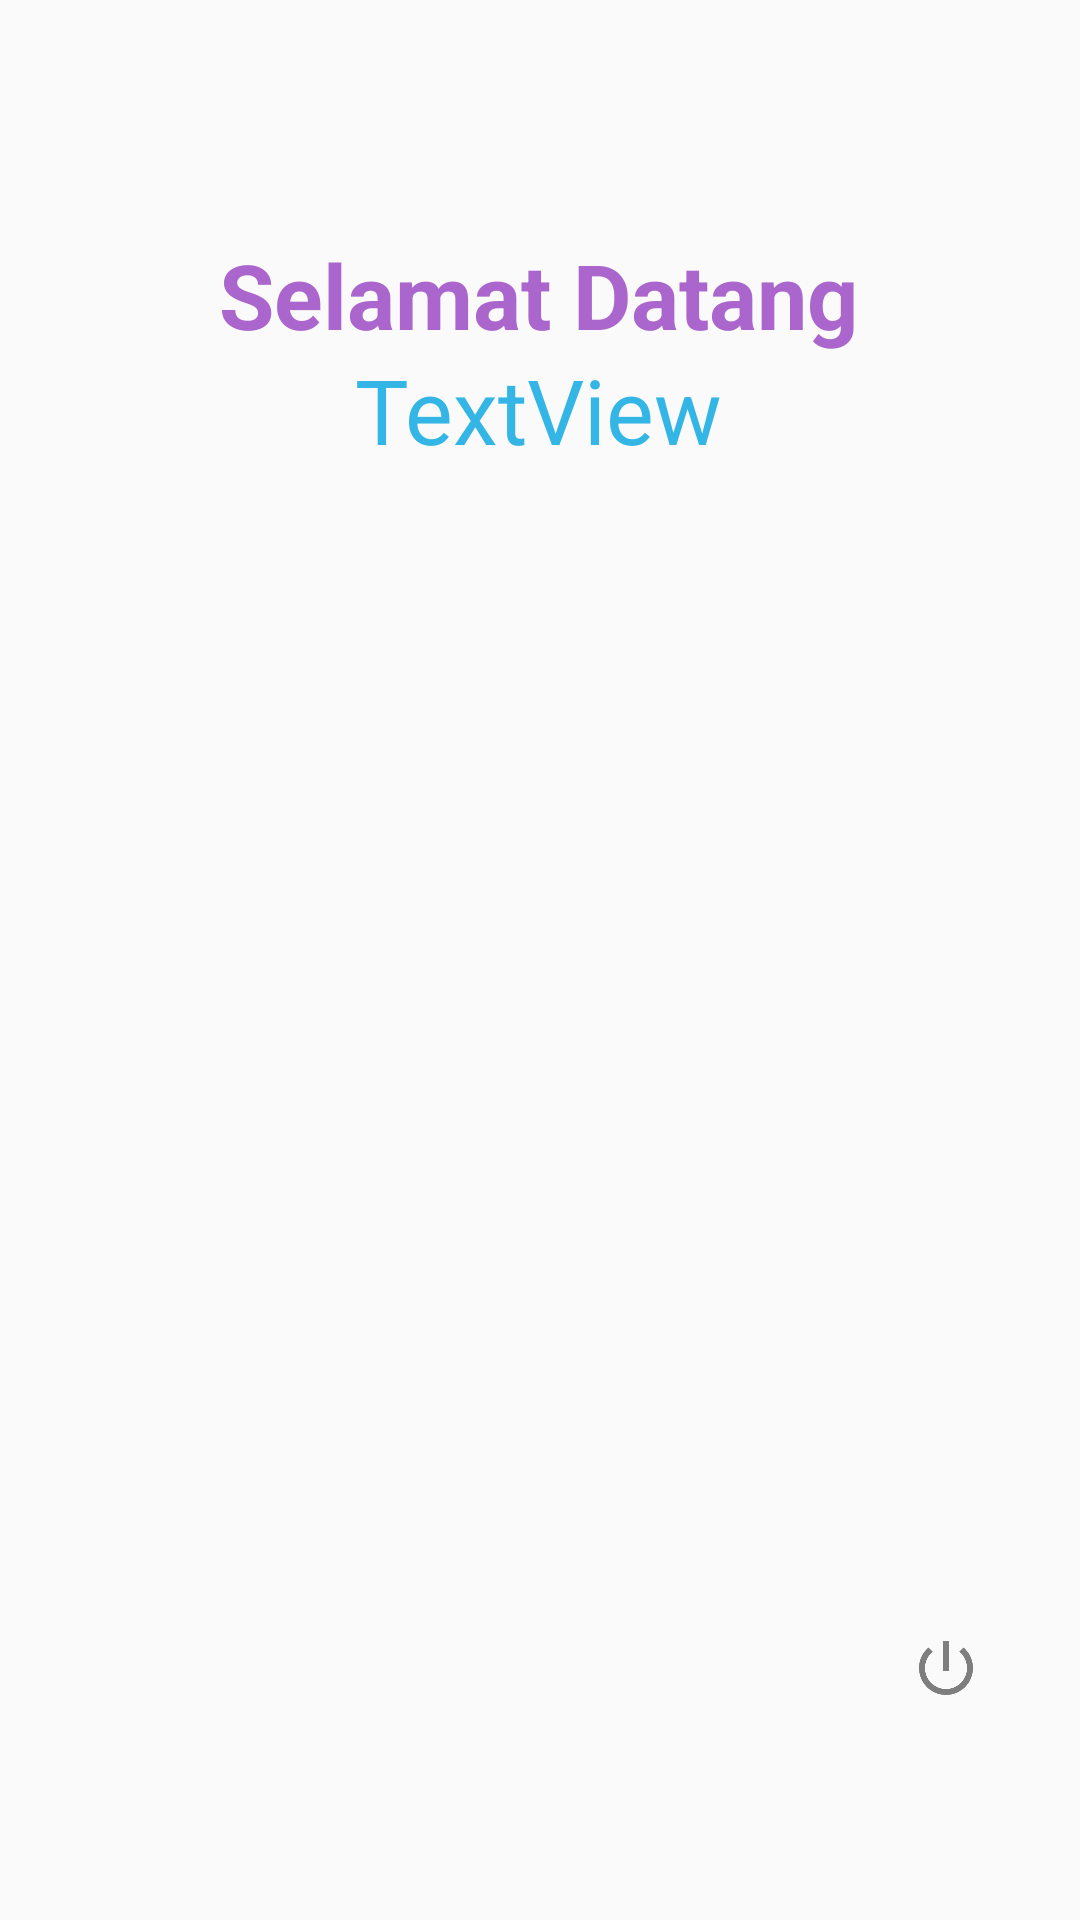

Where icons sit on this 1080x1920 app screen, as (x1, y1, x2, y2):
power settings: (919, 1641, 973, 1695)
